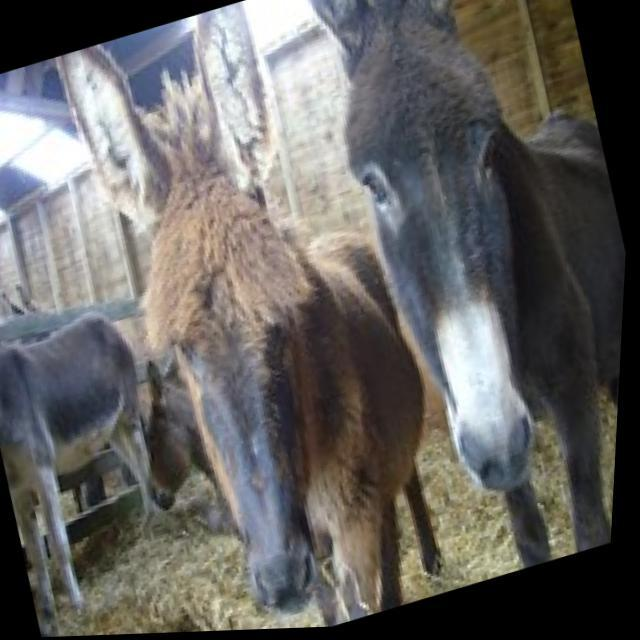Donkey: (23, 0, 501, 639), (273, 0, 640, 601), (0, 272, 212, 640), (120, 339, 256, 556)
